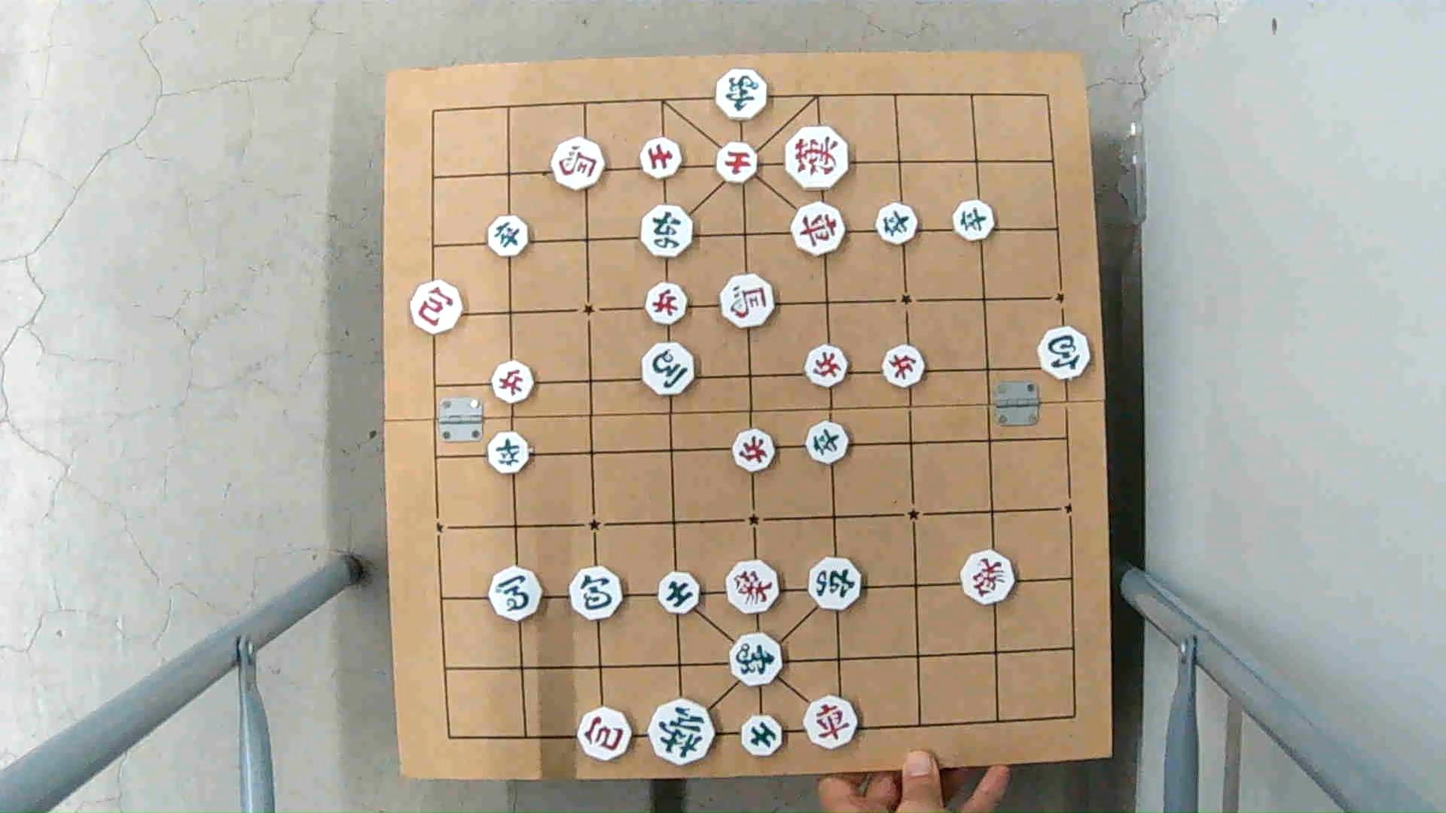cha_green: (807, 560, 862, 609), (639, 207, 694, 255)
cha_red: (802, 698, 860, 747), (790, 206, 844, 254)
jol_green: (954, 200, 997, 243), (484, 434, 531, 473), (804, 424, 849, 464), (484, 216, 529, 255), (875, 204, 919, 241)
jol_red: (729, 431, 776, 470), (644, 282, 688, 322), (489, 363, 535, 401), (803, 346, 847, 385), (880, 347, 925, 385)
ma_green: (487, 567, 545, 617), (642, 345, 695, 394)
ma_red: (720, 276, 776, 325), (554, 143, 610, 187)
po_green: (1036, 328, 1093, 379), (567, 568, 625, 618)
po_red: (576, 708, 636, 759), (409, 283, 465, 333)
sa_green: (655, 573, 703, 618), (739, 717, 787, 754)
sa_red: (638, 136, 682, 178), (713, 145, 758, 184)
sang_green: (727, 634, 786, 685), (715, 71, 770, 120)
sang_red: (723, 560, 781, 617), (959, 553, 1015, 604)
wang_green: (647, 704, 716, 762)
wang_red: (786, 130, 852, 188)
